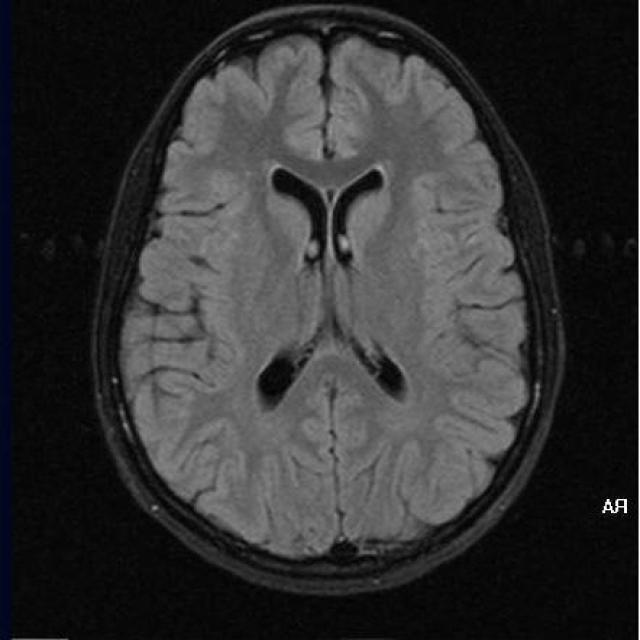no-tumor: (203, 106, 429, 442)
